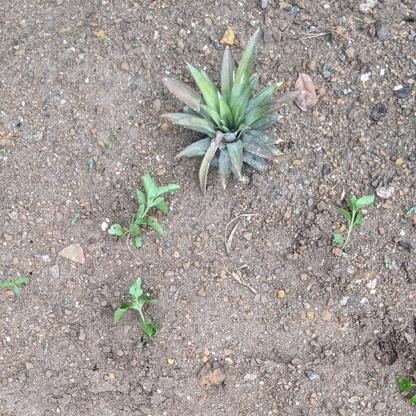pineapple: (158, 31, 284, 196)
weed: (107, 173, 182, 250), (110, 276, 161, 339), (334, 191, 377, 249)
